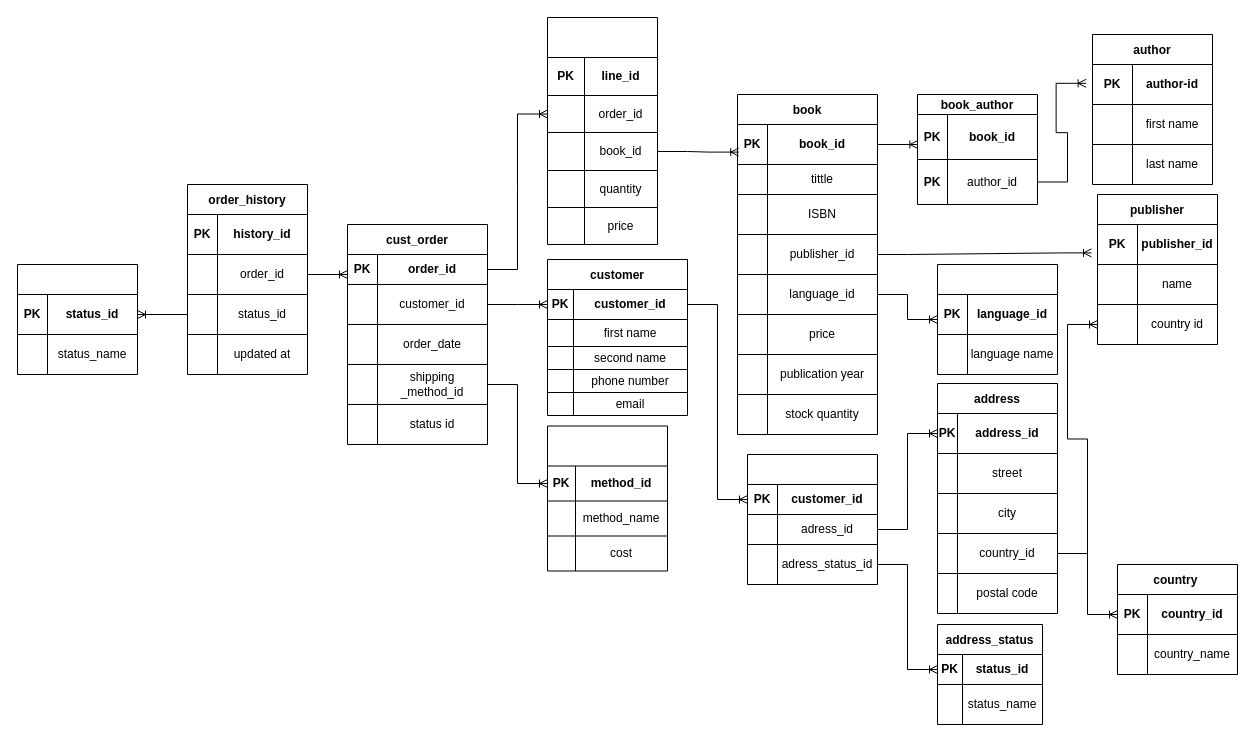
Some shapes in this 1255 by 742 pixel diagram are drawn without their labels. The shapes that lost their labels are listed below. From the top down, each one's box as (x1, y1, x2, y2) in pixels, then its label:
(546, 16, 658, 244): order_line
(16, 264, 138, 374): order_status
(936, 264, 1058, 374): book_language
(546, 425, 668, 571): shipping_method
(746, 454, 878, 584): customer_address
